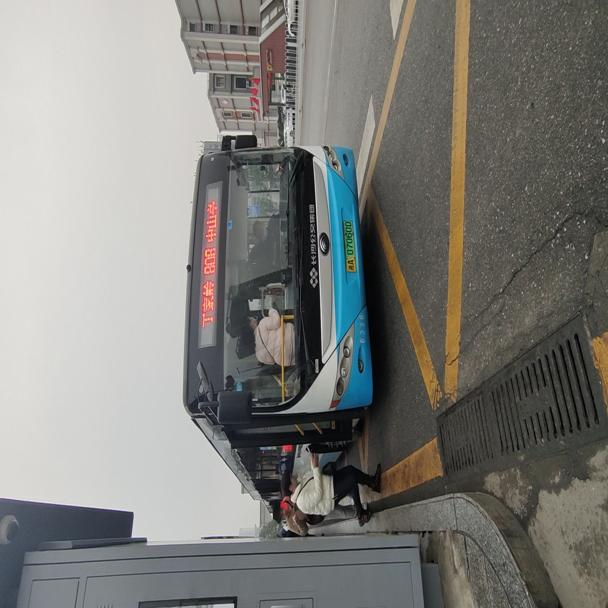bus: (180, 130, 372, 497)
screen: (201, 243, 216, 279)
